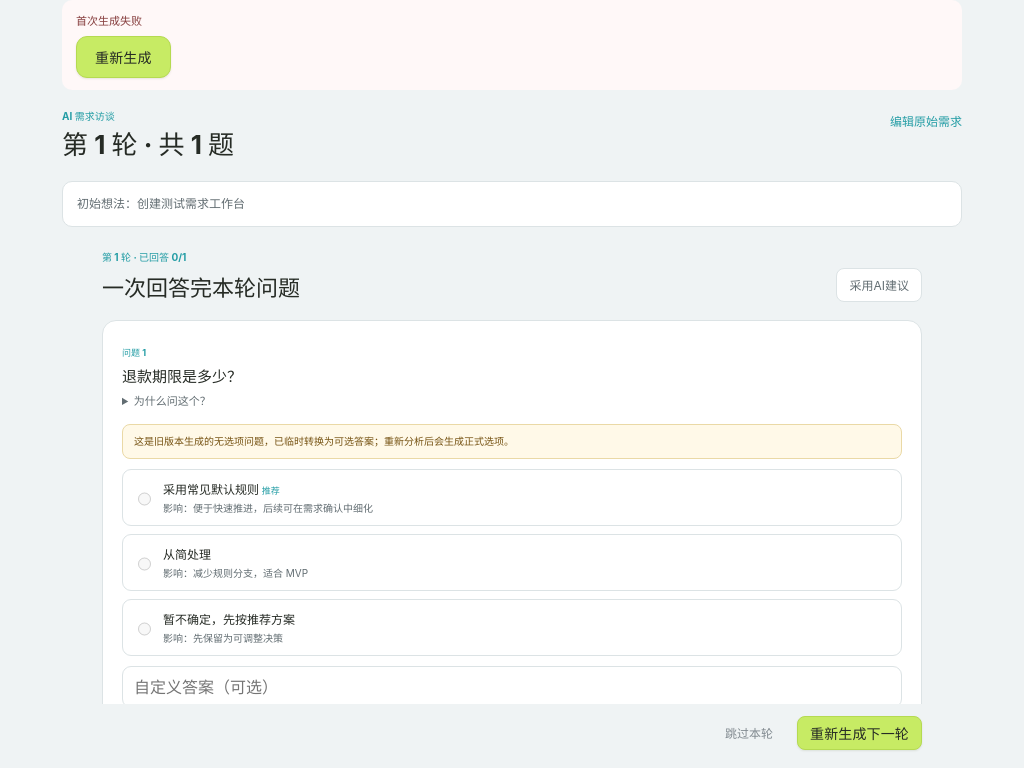
Test case: QuestionWizardView › retries only generateRound when clicking regenerate — no re-submit of answers
Click the button "重新生成".
click(123, 57)  # box [76,36,171,78]
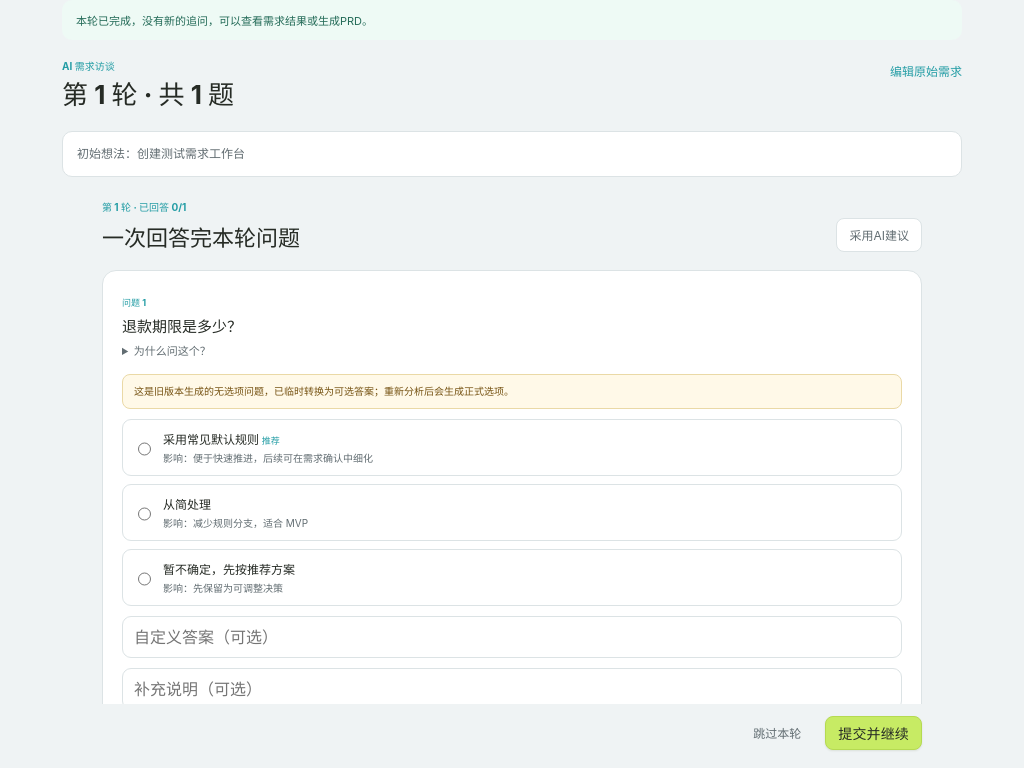
Expected: the text "本轮已完成，没有新的追问" is shown, [76,14,373,28]
